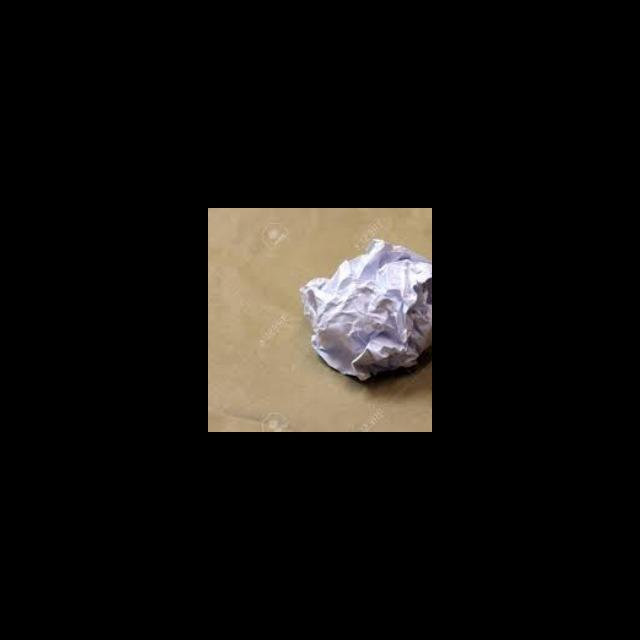paper: (292, 227, 432, 393)
